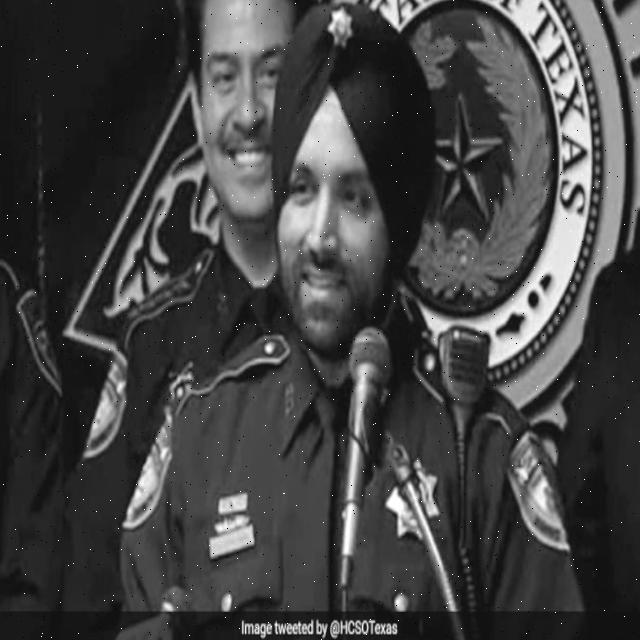police: (127, 1, 573, 640)
